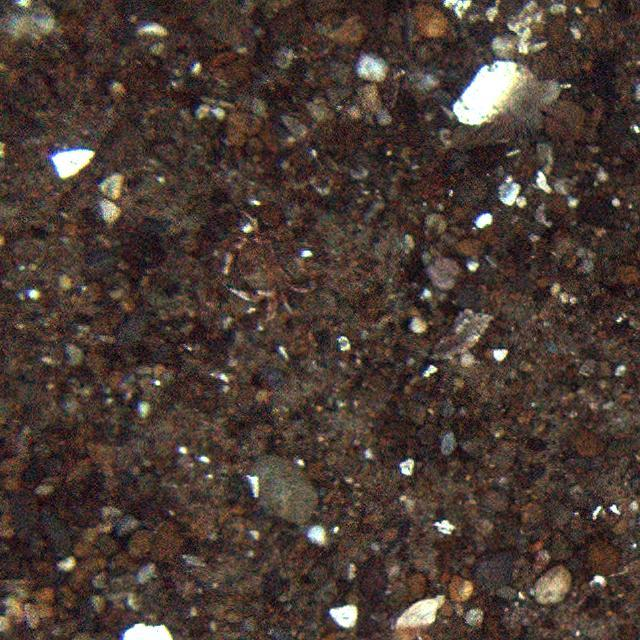crab: (221, 226, 311, 320)
